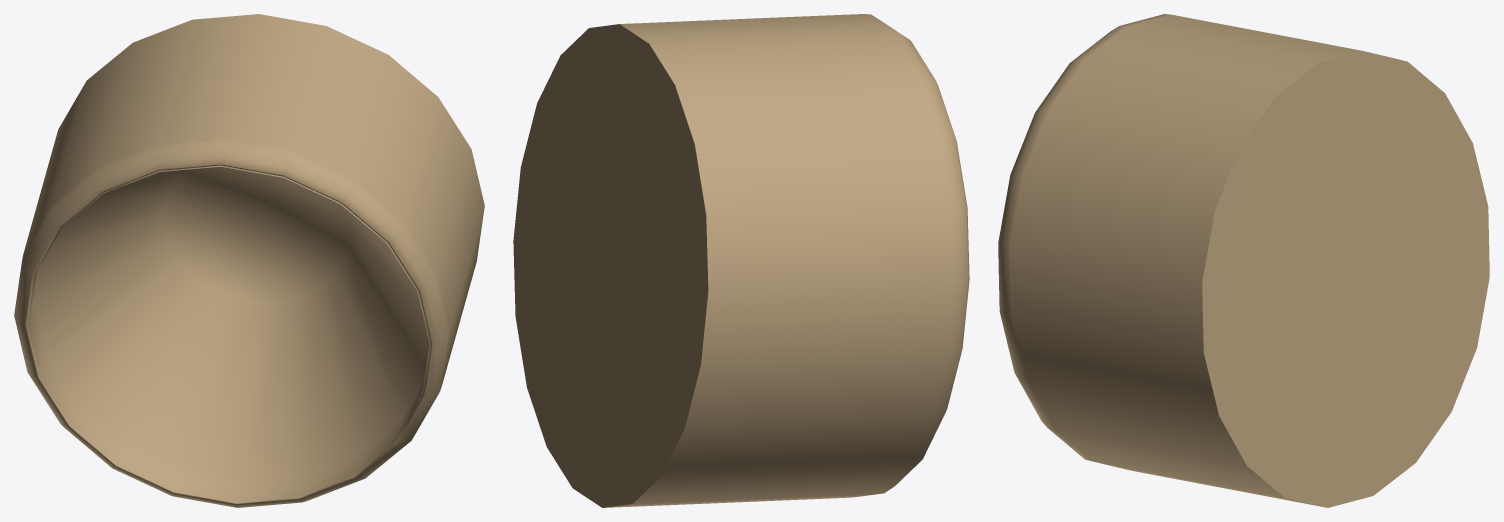
The model's file is BL3_8shapes_Round_Classic_Metal.001 3.glb.
3 views of the same model, side by side, from view 1: azimuth 30°, elevation 25°; view 2: azimuth 150°, elevation 25°; view 3: azimuth 270°, elevation 25° (orthographic). The views are drawn at different scales.
Visible parts, largest first — view 1: BL3_8shapes_Round_Classic_Metal.001; view 2: BL3_8shapes_Round_Classic_Metal.001; view 3: BL3_8shapes_Round_Classic_Metal.001.
Part boxes in pixels (x1,y1,x2,y2): BL3_8shapes_Round_Classic_Metal.001: [14, 14, 484, 507]; BL3_8shapes_Round_Classic_Metal.001: [513, 14, 969, 507]; BL3_8shapes_Round_Classic_Metal.001: [998, 14, 1489, 507].
Bounding box in the file's own units: 0.6183 × 0.576 × 0.5829.
